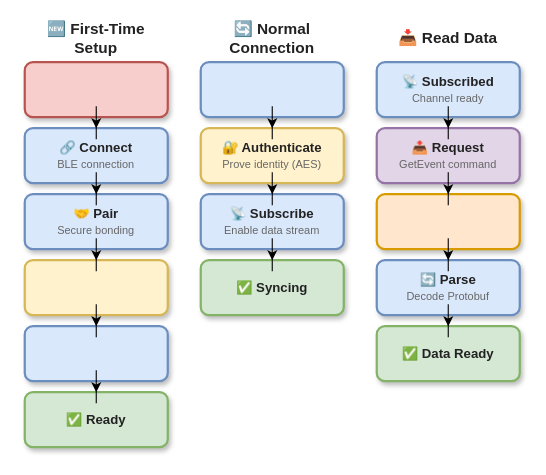
Some shapes in this 546 by 475 pixel diagram are drawn without their labels. The shapes that lost their labels are listed below. From the top down, each one's centre as x and y in pixels, then its label:
At pixel 97 90: "🔄 Factory Reset Clears stored data".
At pixel 273 90: "🔗 Connect BLE reconnect".
At pixel 449 222: "📨 Receive Batched transfer".
At pixel 97 288: "🔑 SetAuthKey Store shared secret".
At pixel 97 354: "🕐 SyncTime Align clocks".
